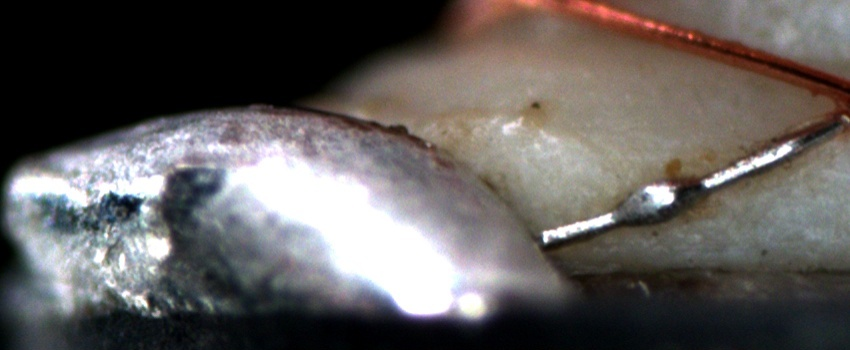CL: (829, 77, 850, 130)
TB: (617, 172, 702, 233)
TS: (540, 119, 843, 243)
TTCW: (535, 110, 845, 248)
